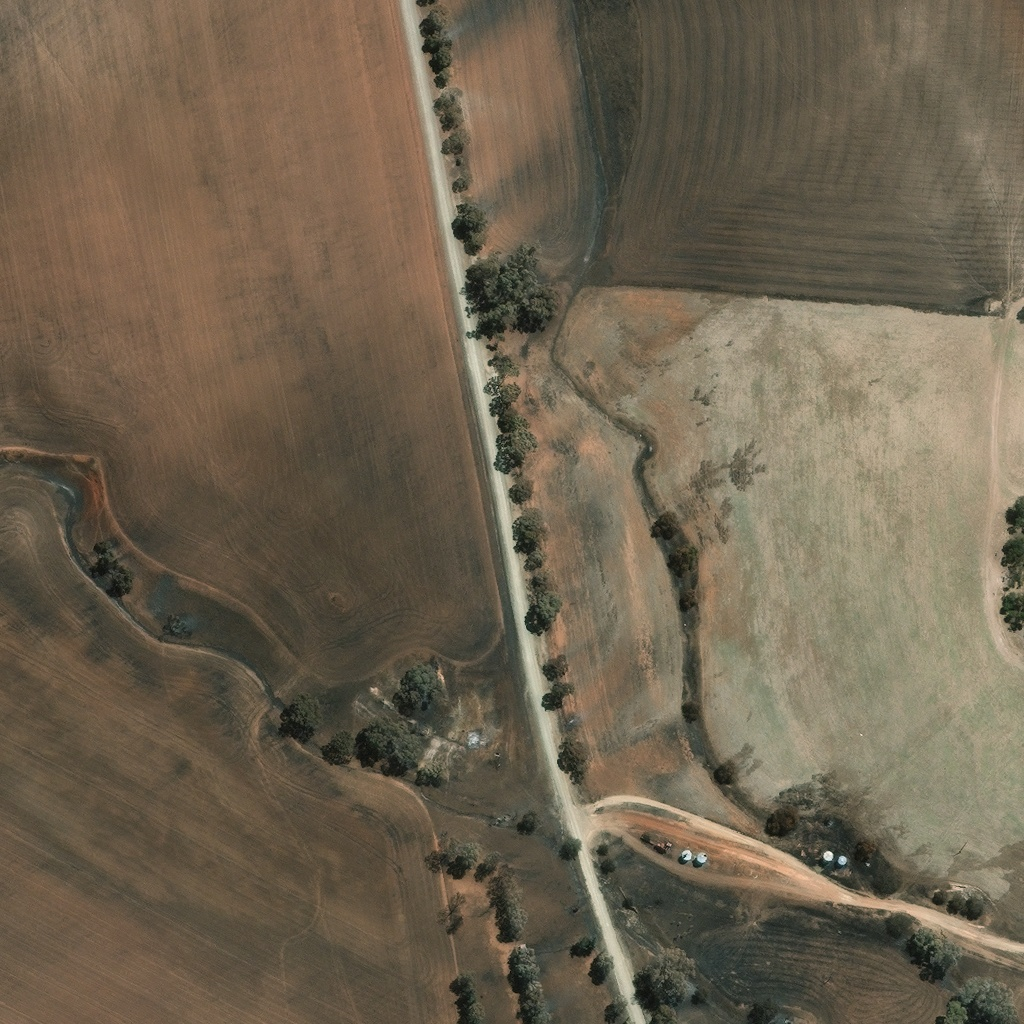0 no-damage: (823, 851, 833, 860), (520, 940, 528, 951), (838, 855, 848, 863)
